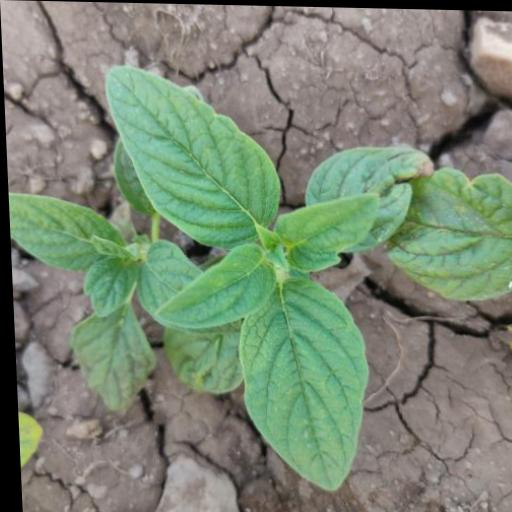crop: (2, 61, 396, 498)
